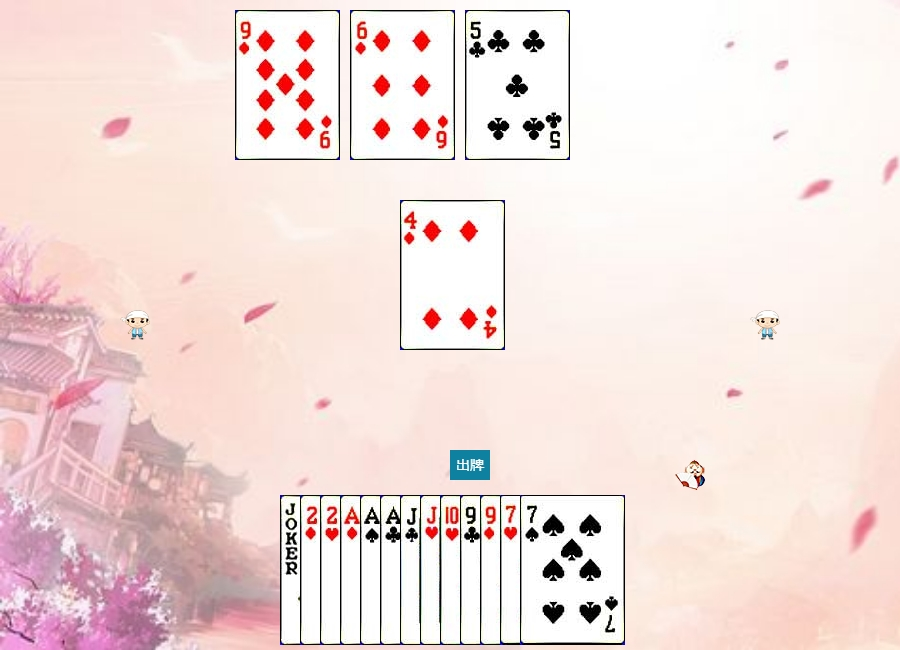10~3: (440, 495, 545, 645)
11~2: (400, 495, 505, 645)
11~3: (420, 495, 525, 645)
14~1: (340, 495, 445, 645)
14~2: (380, 495, 485, 645)
14~4: (360, 495, 465, 645)
15~1: (300, 495, 405, 645)
15~3: (320, 495, 425, 645)
17~3: (280, 495, 385, 645)
4~1: (400, 200, 505, 350)
5~2: (465, 10, 570, 160)
6~1: (350, 10, 455, 160)
7~3: (500, 495, 605, 645)
7~4: (520, 495, 625, 645)
9~1: (235, 10, 340, 160), (480, 495, 585, 645)
9~2: (460, 495, 565, 645)
